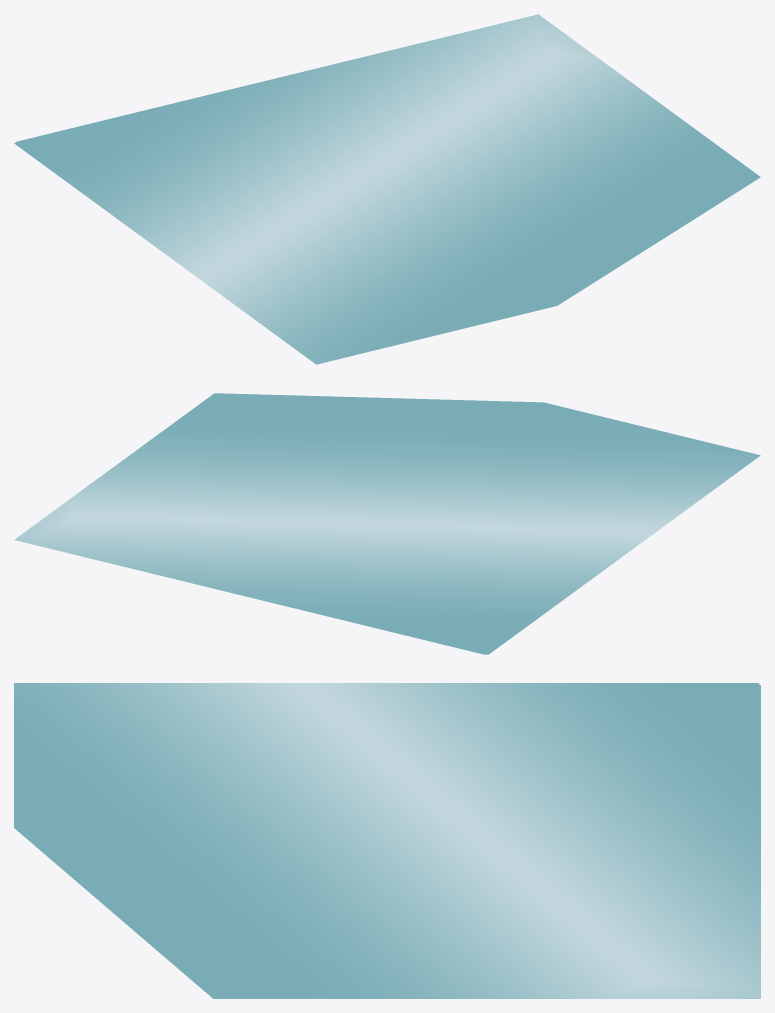
The picture shows the model from 3 angles, top to bottom: view 1: azimuth 30°, elevation 25°; view 2: azimuth 150°, elevation 25°; view 3: azimuth 270°, elevation 25°; orthographic projection. The views are drawn at different scales.
Parts seen in each view (by area): view 1: city; view 2: city; view 3: city.
Boxes of the visible parts, left/top/right/bottom form: city: left=14, top=14, right=760, bottom=364; city: left=14, top=393, right=760, bottom=654; city: left=14, top=683, right=760, bottom=998.
Bounding box in the file's own units: 500 × 0 × 500.
